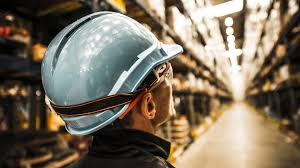Casco de seguridad: (41, 7, 197, 139)
